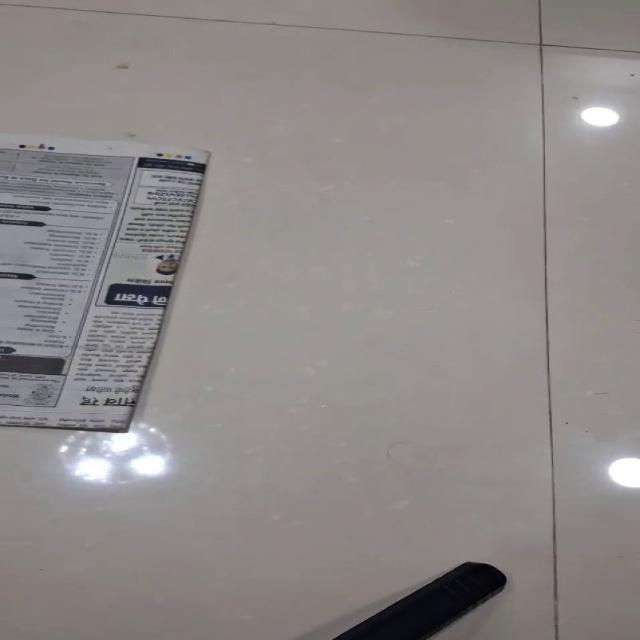paper: (0, 132, 210, 433)
